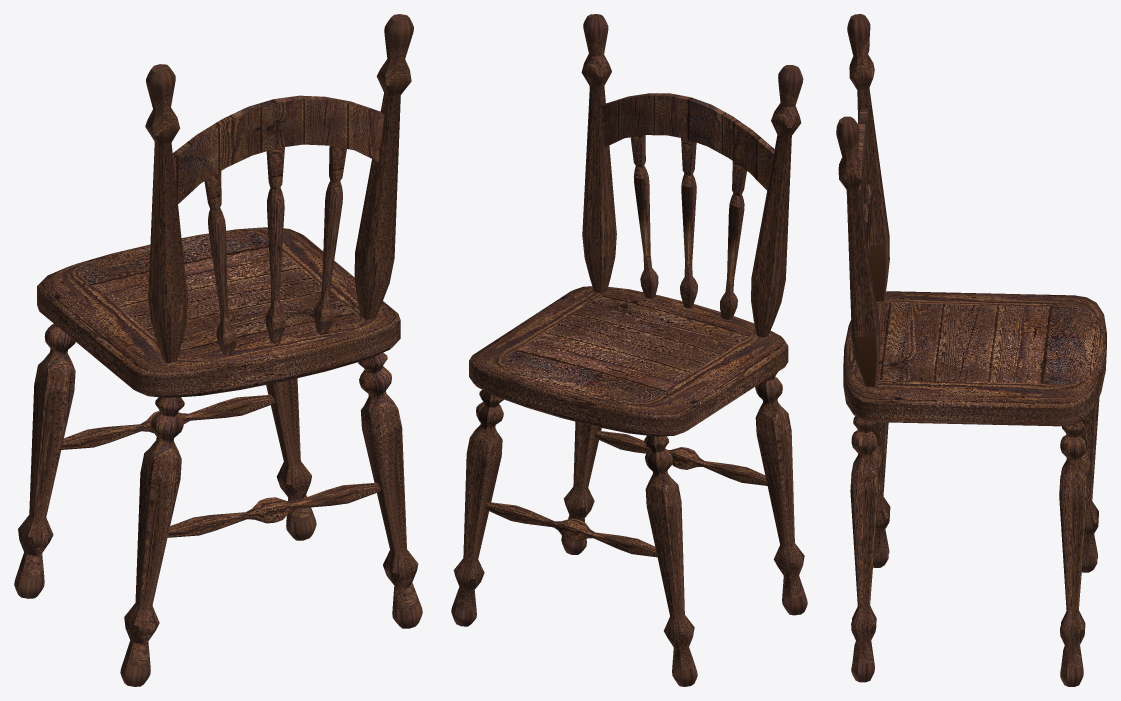
Rendered from desk chair.fbx.
3 views of the same model, side by side, from view 1: azimuth 30°, elevation 25°; view 2: azimuth 150°, elevation 25°; view 3: azimuth 270°, elevation 25° (orthographic). The views are drawn at different scales.
Parts seen in each view (by area): view 1: Cube; view 2: Cube; view 3: Cube.
Part boxes in pixels (box(x1,y1,x2,y2)): Cube: box(14, 14, 422, 686); Cube: box(451, 14, 807, 686); Cube: box(836, 14, 1106, 686).
Size of the model in its own units: 72.56 by 143 by 63.39.
1 material, 1 textured.
